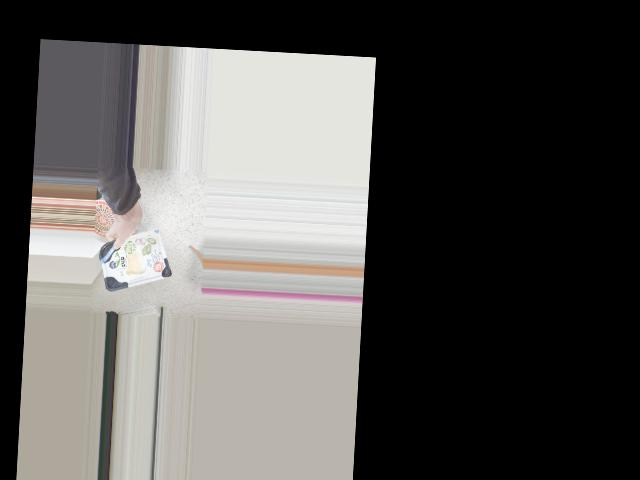cheese: (96, 227, 174, 295)
